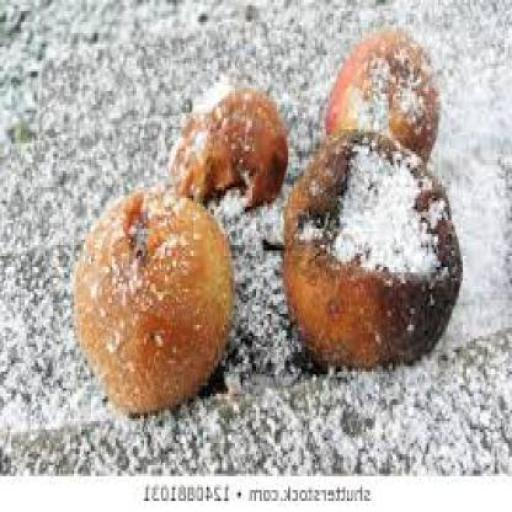biodegradable: (264, 127, 466, 369), (76, 182, 236, 416), (324, 27, 444, 163), (172, 77, 288, 210)
